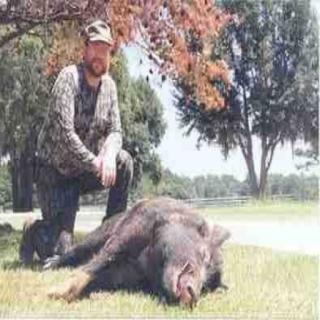Pig: (80, 183, 250, 317)
